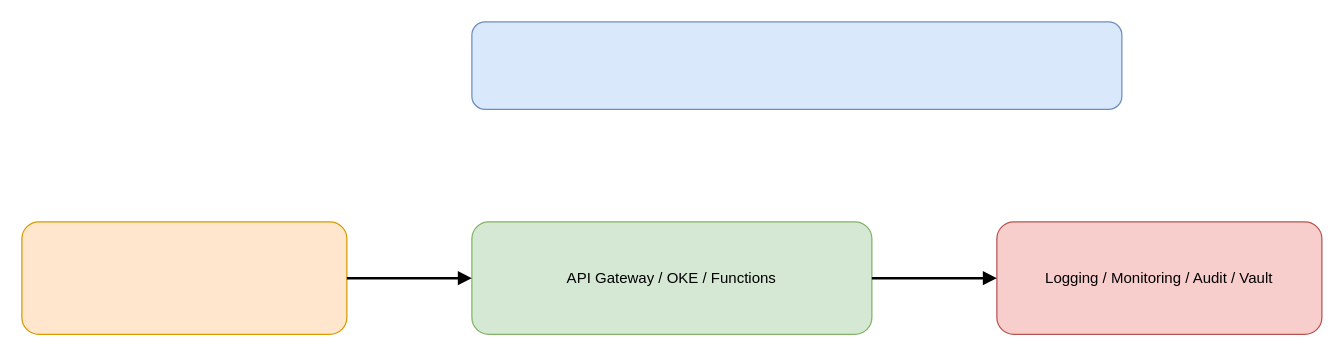
Image size: 1344x356. Some labels were removed from this diagram. Here are the shapes that lost their labels. From the top down, the centre of each, then its label:
the point at 796,65: OCI Mapping
the point at 184,277: IAM / Identity Domains
